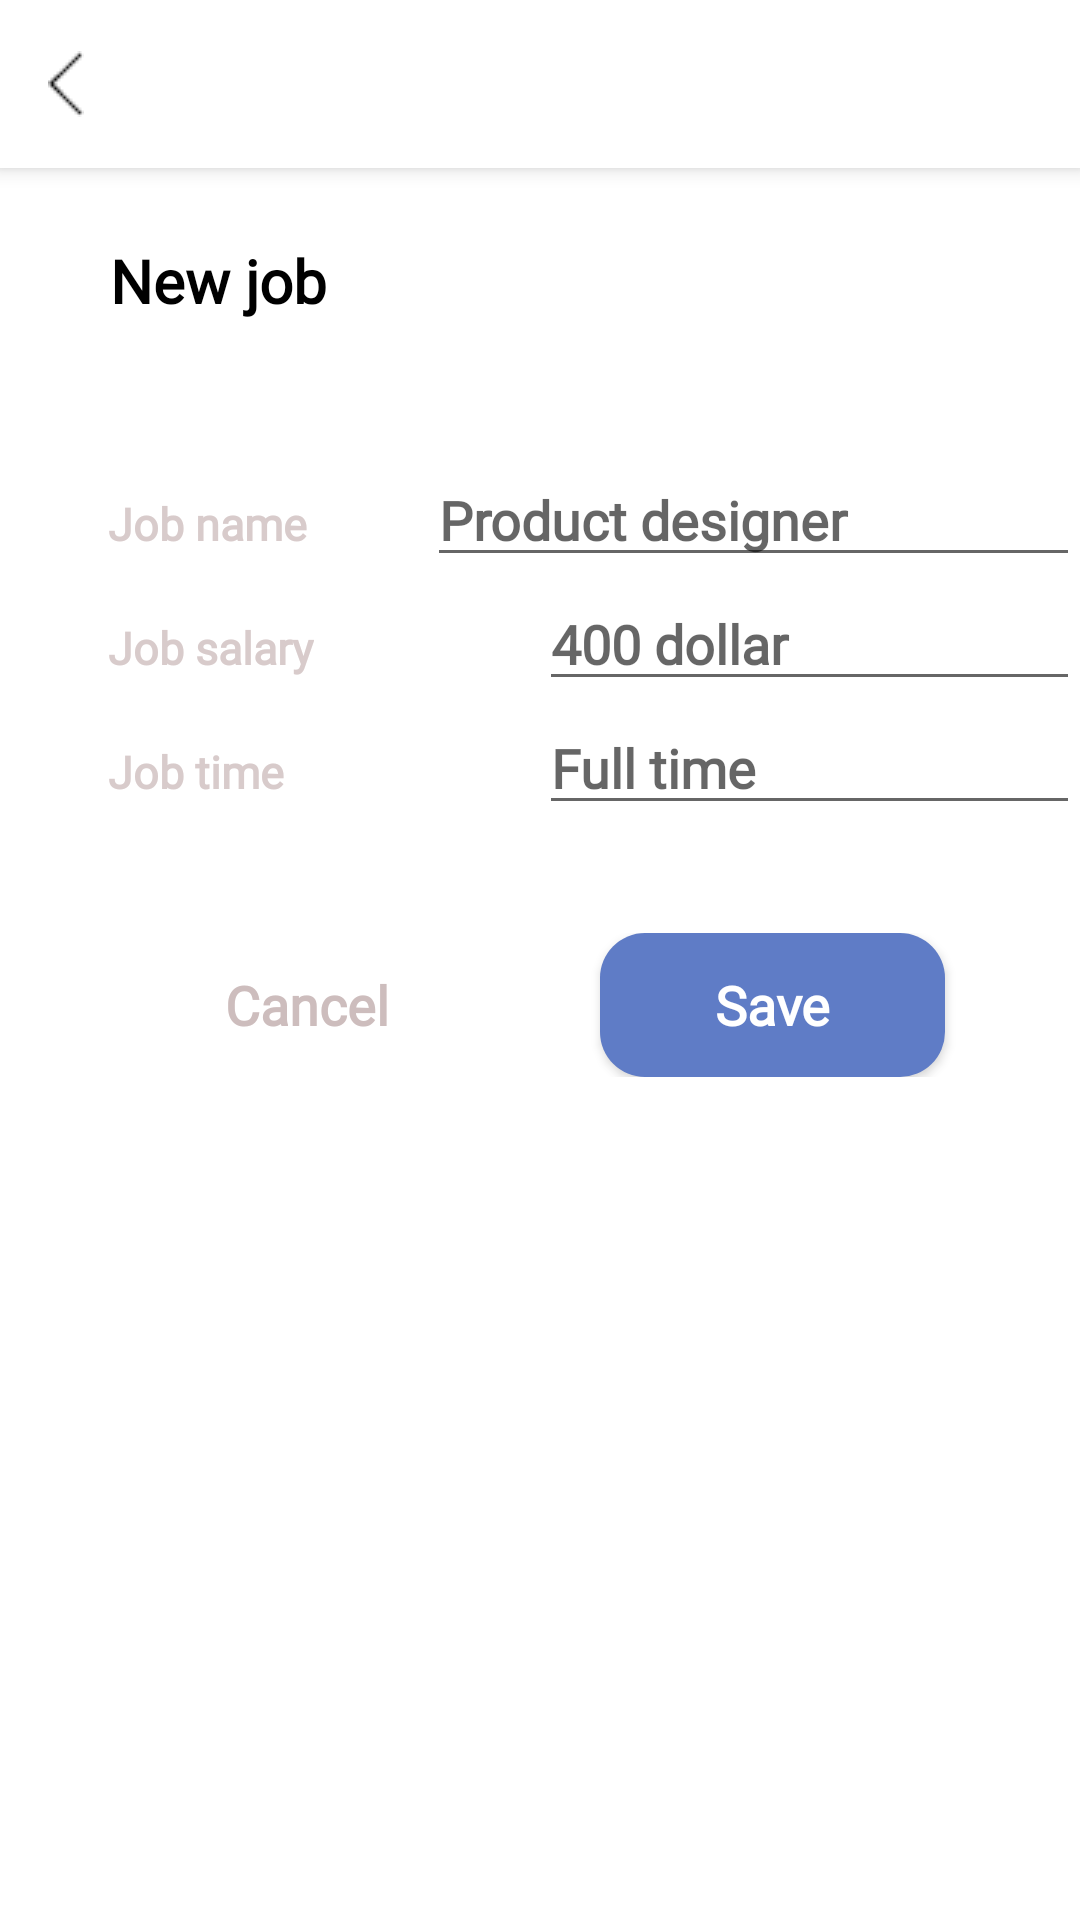

Locate icon controls on the screen. Image size 1080w x 1920h, boxes as (x1, y1, x2, y2).
back: (48, 51, 84, 115)
